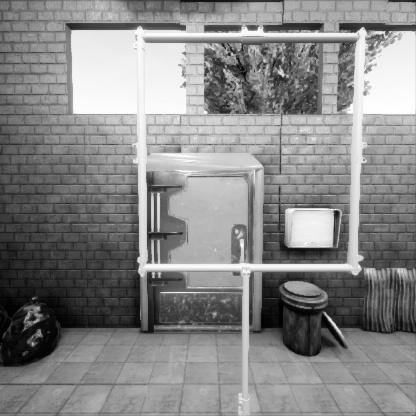gate: (131, 151, 384, 401)
